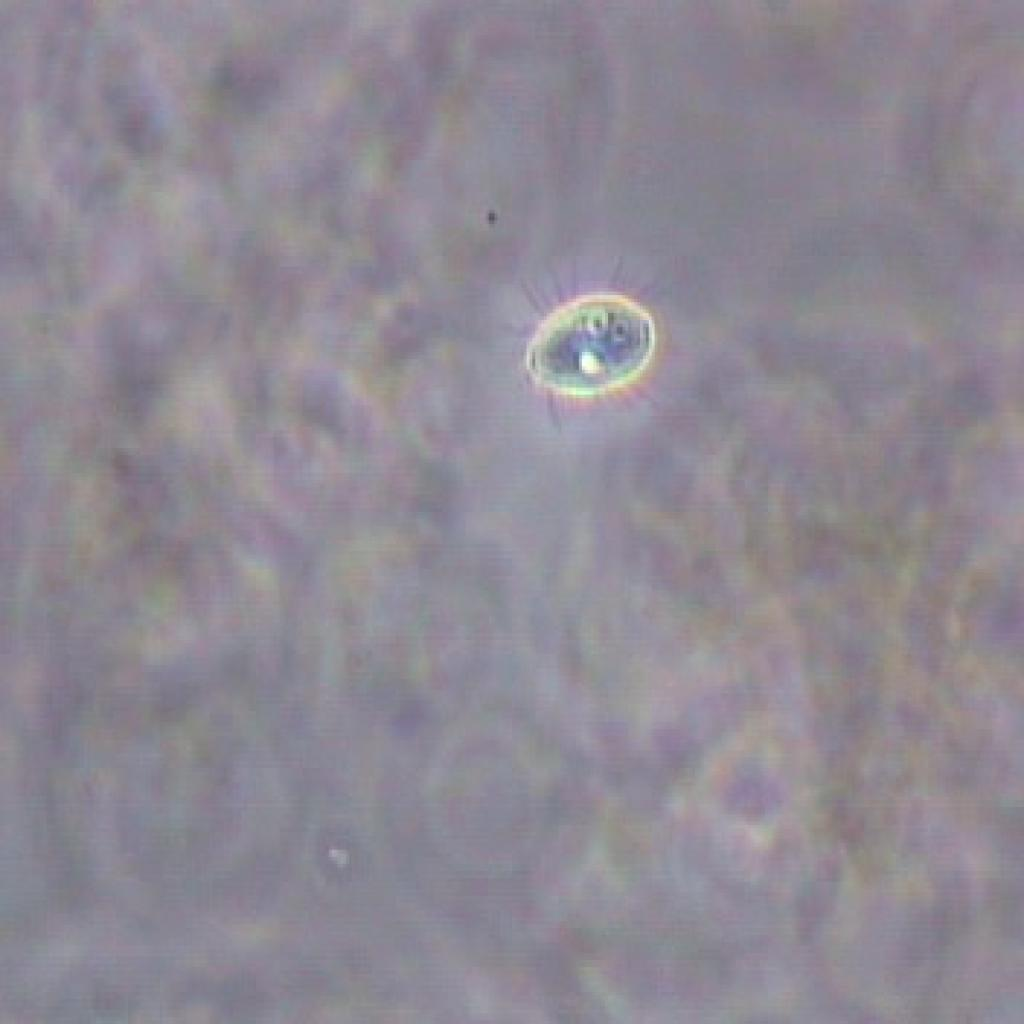Cyclidium: (467, 244, 702, 436)
